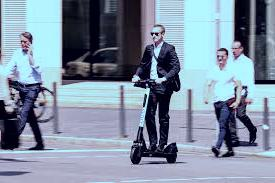nonhelmet: (129, 23, 183, 165)
